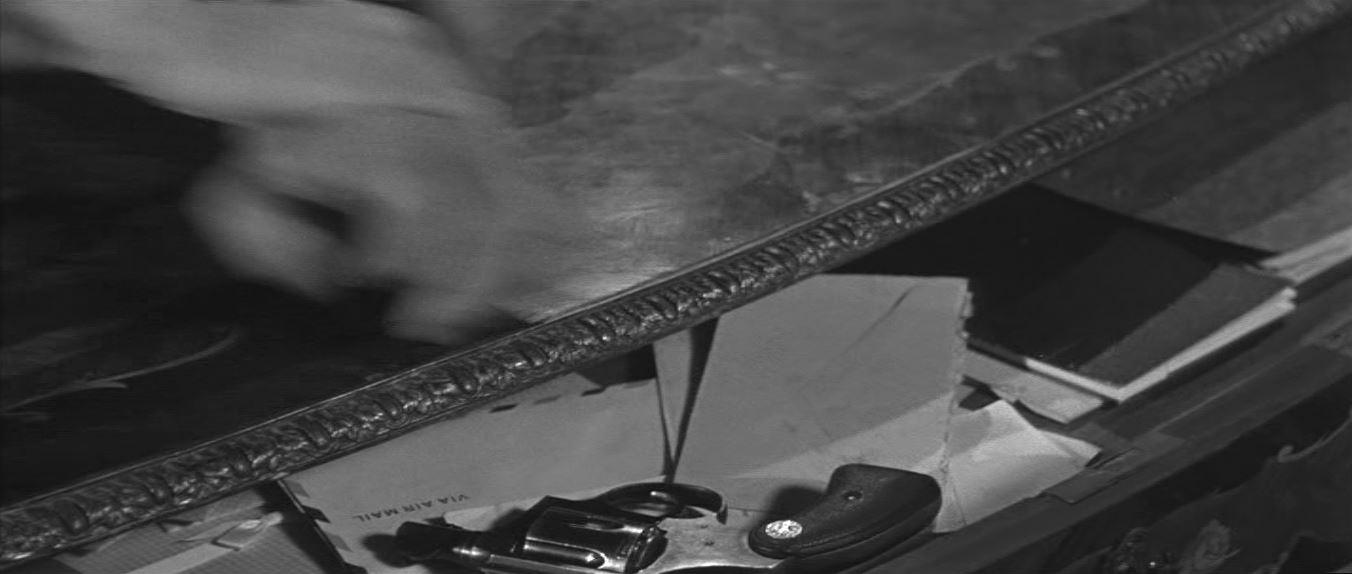gun: (392, 452, 732, 574)
